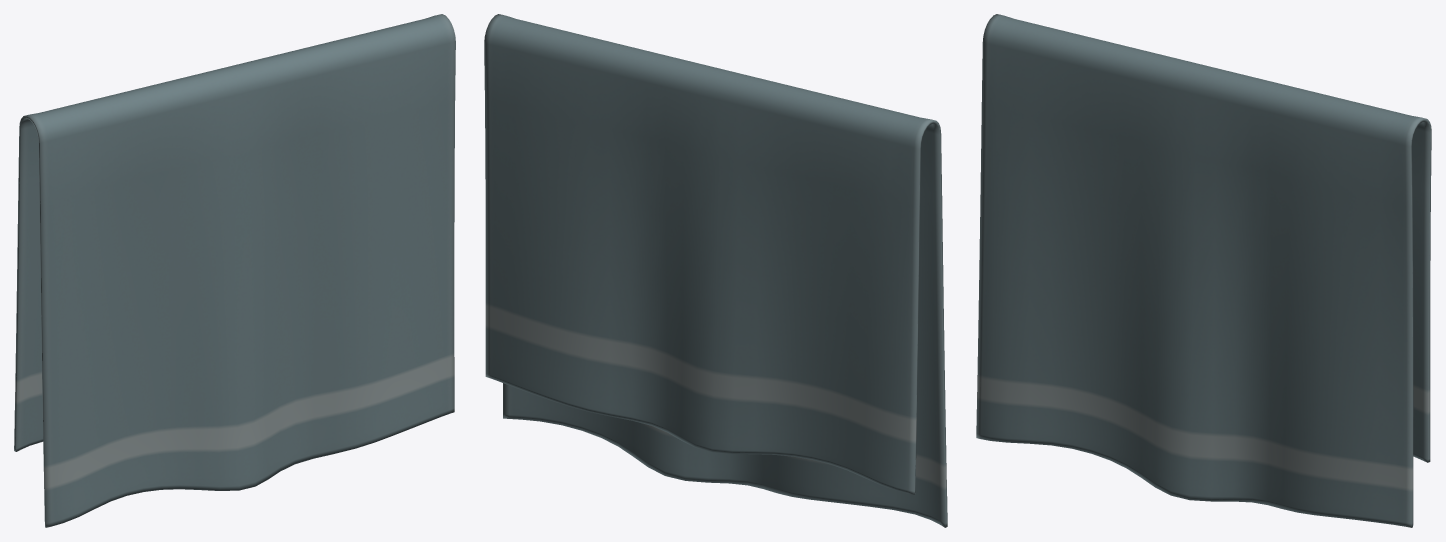
The model's file is Towel_LOD0.fbx.
3 views of the same model, side by side, from view 1: azimuth 30°, elevation 25°; view 2: azimuth 150°, elevation 25°; view 3: azimuth 330°, elevation 25° (orthographic). The views are drawn at different scales.
Visible parts, largest first — view 1: Body_LOD0; view 2: Body_LOD0; view 3: Body_LOD0.
Part boxes in pixels (x1=…): Body_LOD0: x1=14, y1=14, x2=455, y2=527; Body_LOD0: x1=484, y1=14, x2=947, y2=527; Body_LOD0: x1=976, y1=14, x2=1431, y2=527.
Bounding box in the file's own units: 0.4007 × 0.3753 × 0.0602.
